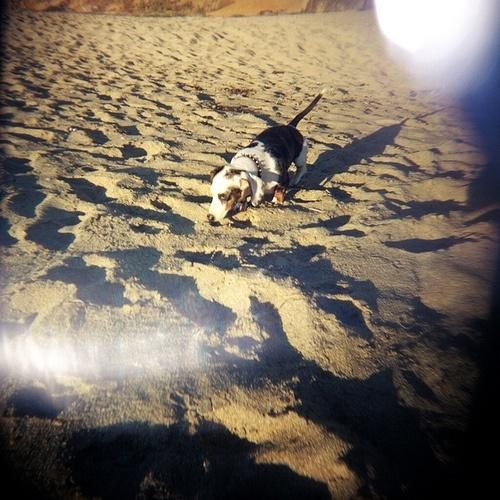dog: (200, 89, 331, 227)
